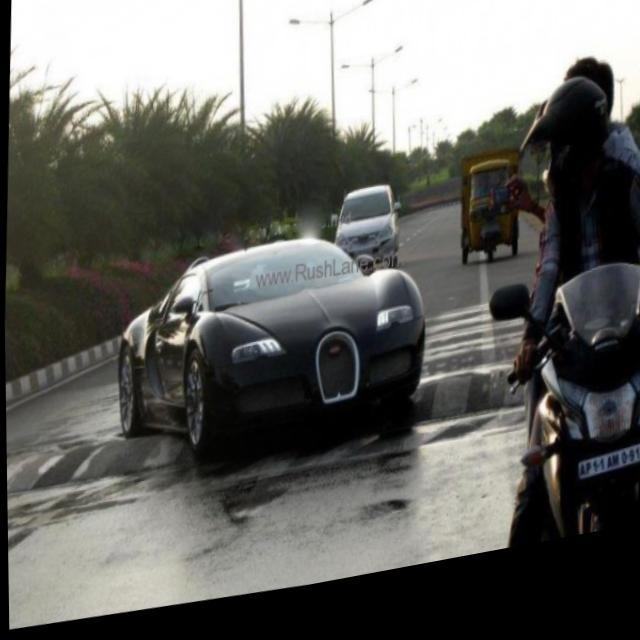license_plate: (574, 466, 636, 504)
